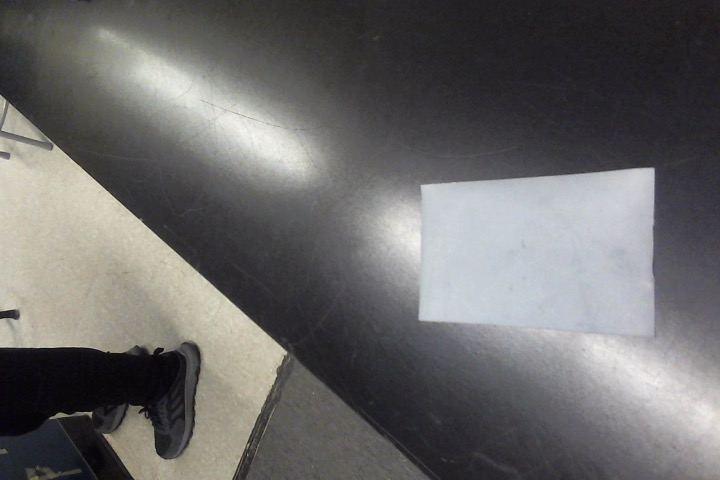Tape: (417, 168, 655, 338)
